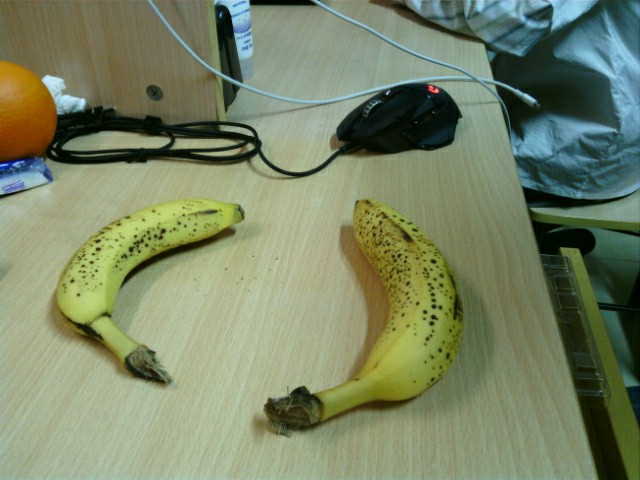normal_banana: (265, 199, 462, 432), (54, 198, 244, 387)
